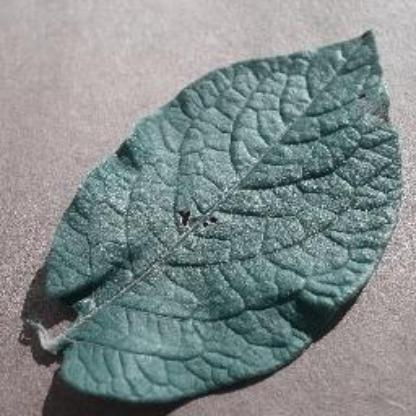Healthy-plant: (23, 27, 410, 407)
